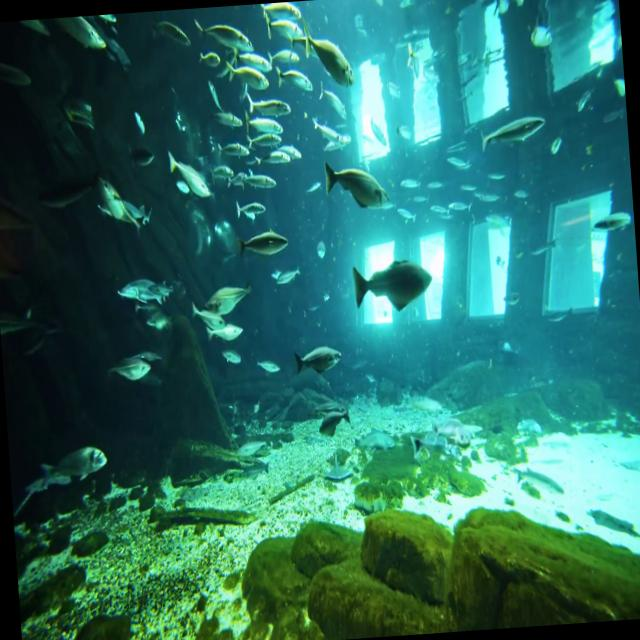fish: (464, 94, 558, 160), (349, 255, 438, 323), (294, 23, 364, 90), (162, 138, 224, 210), (327, 152, 393, 212), (96, 169, 148, 242), (228, 210, 294, 262), (288, 332, 348, 384), (196, 14, 260, 59), (42, 446, 112, 484), (16, 458, 72, 505), (216, 55, 276, 98), (146, 8, 197, 55), (57, 15, 106, 60), (206, 282, 264, 318), (184, 292, 227, 336), (592, 203, 635, 244), (276, 54, 312, 100), (242, 90, 296, 119), (114, 258, 148, 304), (108, 354, 154, 388), (132, 276, 184, 304), (262, 11, 304, 45), (140, 306, 174, 336), (259, 1, 305, 22)
